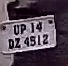1: (29, 20, 36, 36), (37, 34, 41, 48)
2: (41, 33, 49, 46)
4: (35, 20, 43, 35), (23, 36, 30, 48)
5: (29, 34, 37, 49)
D: (7, 37, 15, 50)
P: (20, 21, 26, 38)
U: (12, 22, 20, 36)
Z: (14, 35, 22, 49)
